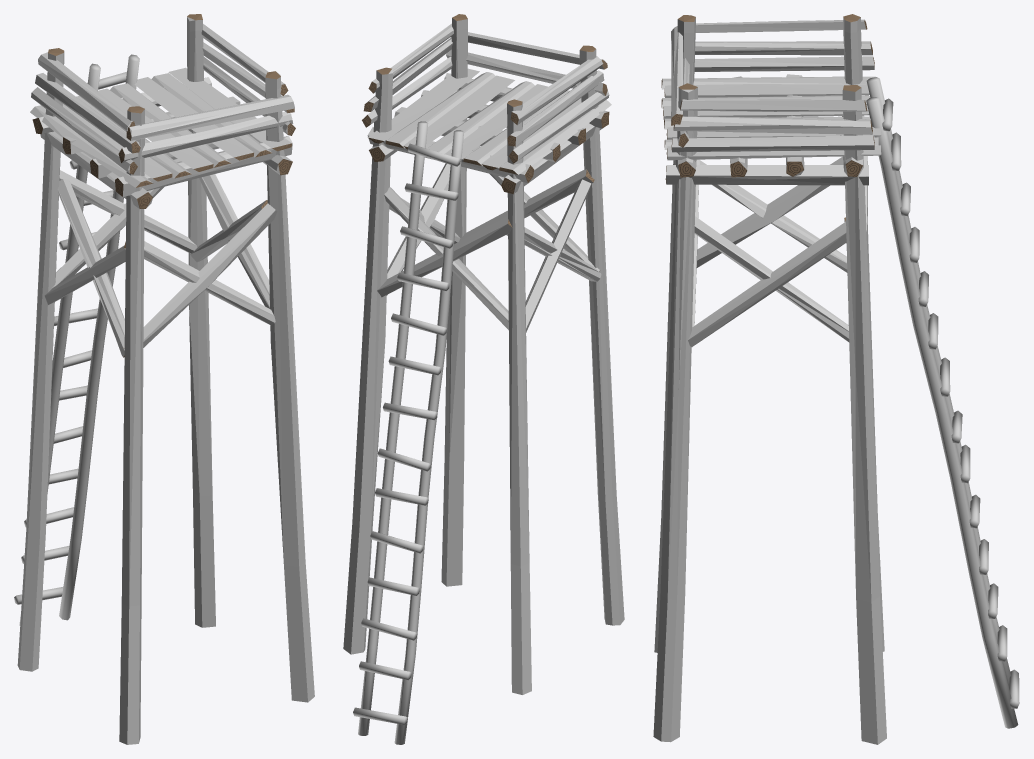
The model's file is FrontierTower2.fbx.
3 renders of one model, left to right at view 1: azimuth 30°, elevation 25°; view 2: azimuth 150°, elevation 25°; view 3: azimuth 270°, elevation 25°, orthographic. The views are drawn at different scales.
Parts seen in each view (by area): view 1: Log.005, Log.004, Log.003, Ladder.001, Log.002, Log.033, Log.031, Step_2.021, Step_2.020, Log.032, Log.028, Log.035 (+20 smaller); view 2: Ladder.001, Log.002, Log.003, Log.004, Log.005, Log.029, Log.034, Log.035, Log.019, Log.017, Log.018, Log.032 (+20 smaller); view 3: Ladder.001, Log.005, Log.002, Log.028, Log.006, Log.024, Log.030, Log.004, Log.023, Log.031, Log.003, Log.013 (+14 smaller).
Part boxes in pixels (box(x1,y1,x2,y2)): Log.005: box(265, 78, 314, 702); Log.004: box(119, 106, 144, 744); Log.003: box(17, 48, 64, 671); Ladder.001: box(14, 54, 139, 625); Log.002: box(187, 18, 215, 627); Log.033: box(123, 203, 277, 348); Log.031: box(57, 179, 124, 357); Step_2.021: box(126, 96, 294, 140); Step_2.020: box(118, 111, 293, 163); Log.032: box(124, 241, 275, 325); Log.028: box(199, 174, 269, 308); Log.035: box(59, 170, 197, 253); Ladder.001: box(353, 121, 464, 744); Log.002: box(343, 71, 392, 654); Log.003: box(507, 99, 531, 694); Log.004: box(579, 45, 624, 625); Log.005: box(441, 18, 467, 586); Log.029: box(525, 179, 591, 332); Log.034: box(384, 187, 508, 330); Log.035: box(377, 216, 512, 297); Log.019: box(368, 68, 479, 143); Log.017: box(403, 75, 514, 149); Log.018: box(385, 72, 495, 148); Log.032: box(459, 169, 594, 241); Ladder.001: box(866, 77, 1019, 728); Log.005: box(653, 88, 697, 742); Log.002: box(842, 88, 886, 744); Log.028: box(688, 222, 846, 346); Log.006: box(665, 165, 868, 185); Log.024: box(674, 116, 872, 134); Log.030: box(694, 216, 849, 342); Log.004: box(654, 15, 695, 652); Log.023: box(671, 135, 874, 152); Log.031: box(696, 156, 843, 267); Log.003: box(843, 14, 884, 651); Log.013: box(664, 84, 869, 97).
Size of what is drawn, in the model's own units: 477 by 958 by 310.
